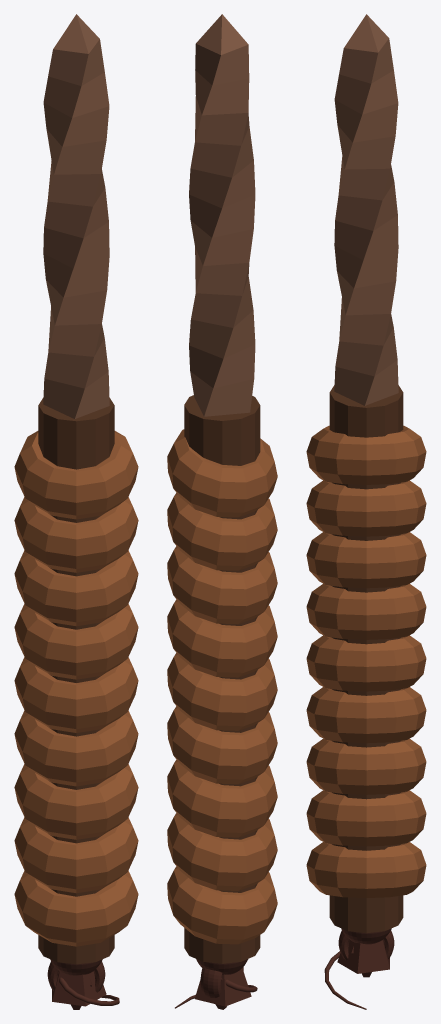
File: Wand 458.glb
The picture shows the model from 3 angles, left to right: view 1: azimuth 90°, elevation 25°; view 2: azimuth 150°, elevation 25°; view 3: azimuth 270°, elevation 25°; orthographic projection. The views are drawn at different scales.
Visible parts, largest first — view 1: GeneratedWand, Pommel_9, Pommel_4, Pommel_2, Pommel_10; view 2: GeneratedWand, Pommel_9, Pommel_2, Pommel_4, Pommel_10; view 3: GeneratedWand, Pommel_9, Pommel_4, Pommel_2, Pommel_10.
Boxes of the visible parts, left/top/right/bottom form: GeneratedWand: left=14, top=14, right=138, bottom=964; Pommel_9: left=52, top=971, right=106, bottom=1006; Pommel_4: left=50, top=959, right=102, bottom=975; Pommel_2: left=47, top=961, right=105, bottom=992; Pommel_10: left=57, top=971, right=119, bottom=1005; GeneratedWand: left=167, top=14, right=277, bottom=963; Pommel_9: left=194, top=968, right=251, bottom=1006; Pommel_2: left=200, top=967, right=243, bottom=997; Pommel_4: left=196, top=959, right=248, bottom=974; Pommel_10: left=175, top=978, right=257, bottom=1008; GeneratedWand: left=306, top=14, right=426, bottom=933; Pommel_9: left=337, top=940, right=389, bottom=973; Pommel_4: left=341, top=928, right=391, bottom=944; Pommel_2: left=338, top=930, right=394, bottom=960; Pommel_10: left=324, top=951, right=366, bottom=1009.
Size of the model in its own units: 0.0508 by 0.5202 by 0.0581.
